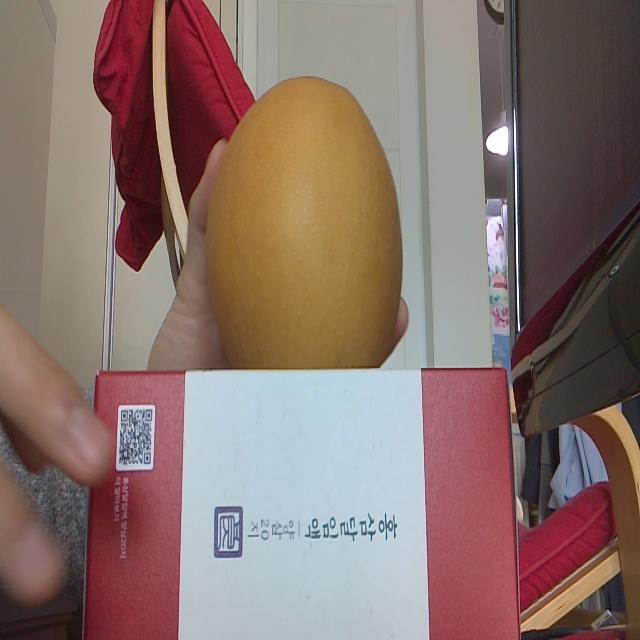pear: (205, 74, 403, 368)
